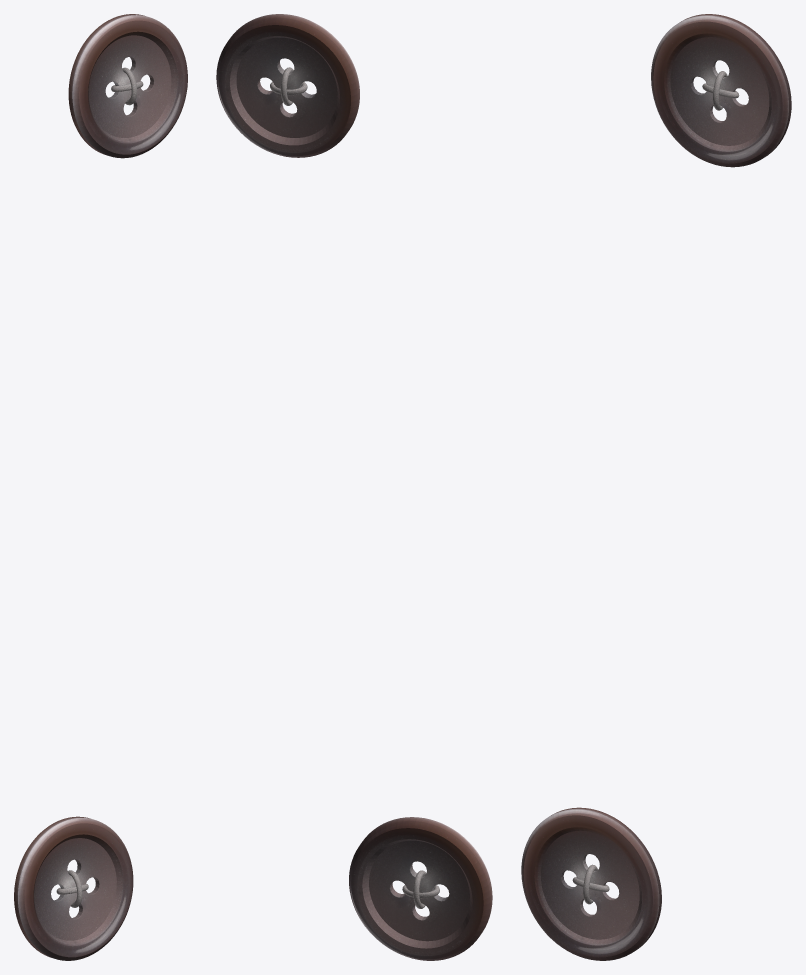
The model's file is Double_Buttons.glb.
3 views of the same model, side by side, from view 1: azimuth 30°, elevation 25°; view 2: azimuth 150°, elevation 25°; view 3: azimuth 330°, elevation 25° (orthographic). The views are drawn at different scales.
Parts seen in each view (by area): view 1: Double_Buttons; view 2: Double_Buttons; view 3: Double_Buttons.
Boxes of the visible parts, <box> form: Double_Buttons: <box>14,14,187,960</box>; Double_Buttons: <box>216,14,492,960</box>; Double_Buttons: <box>521,14,791,960</box>.
Size of the model in its own units: 0.00484 by 0.0193 by 0.00208.
2 materials, 2 textured.
